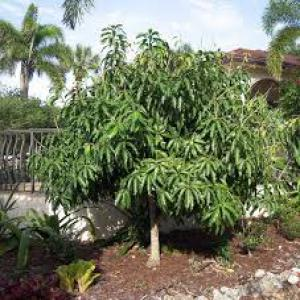Tree: (36, 31, 279, 261)
